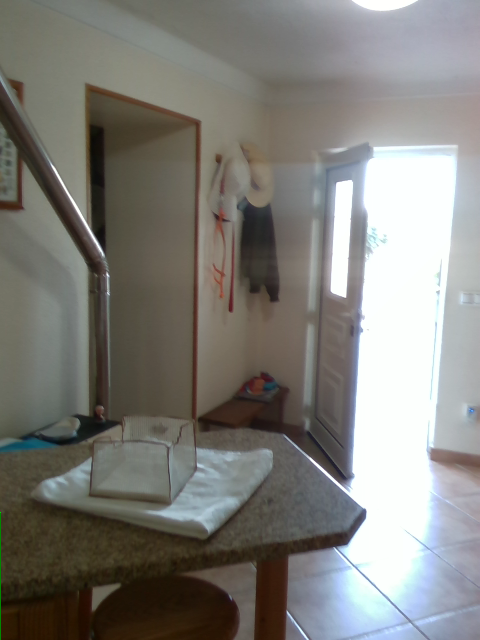semi: (306, 144, 457, 479)
